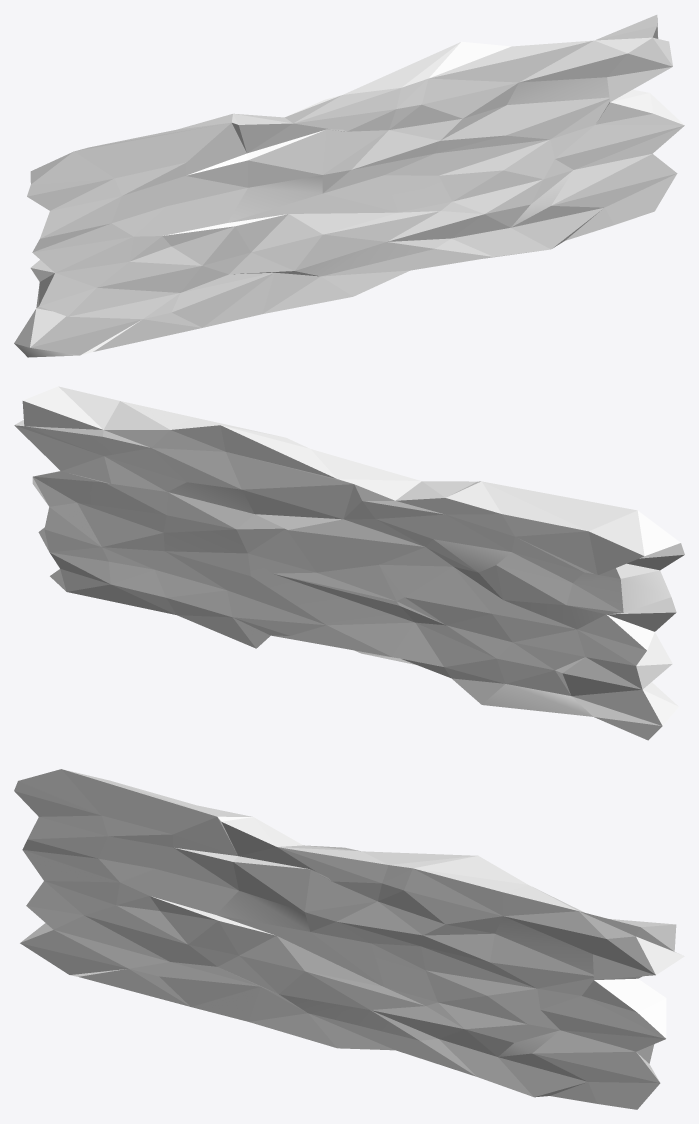
Rendered from wall.obj.
The picture shows the model from 3 angles, top to bottom: view 1: azimuth 30°, elevation 25°; view 2: azimuth 150°, elevation 25°; view 3: azimuth 330°, elevation 25°; orthographic projection.
Visible parts, largest first — view 1: Cube; view 2: Cube; view 3: Cube.
Boxes of the visible parts, left/top/right/bottom form: Cube: left=14, top=15, right=684, bottom=357; Cube: left=14, top=386, right=684, bottom=740; Cube: left=14, top=769, right=684, bottom=1109.
Size of the model in its own units: 9.48 by 2.98 by 0.5436.
